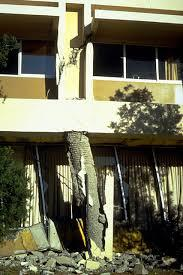spalling: (65, 131, 106, 252)
